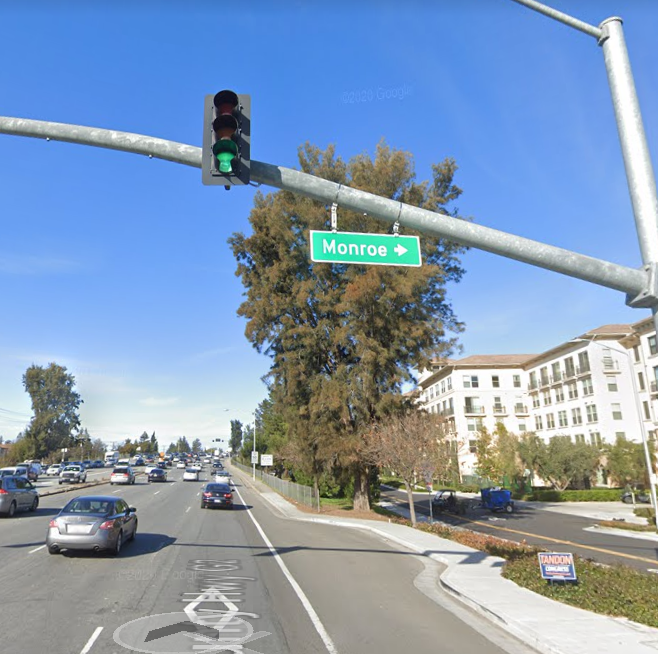green_light: (205, 93, 251, 183)
